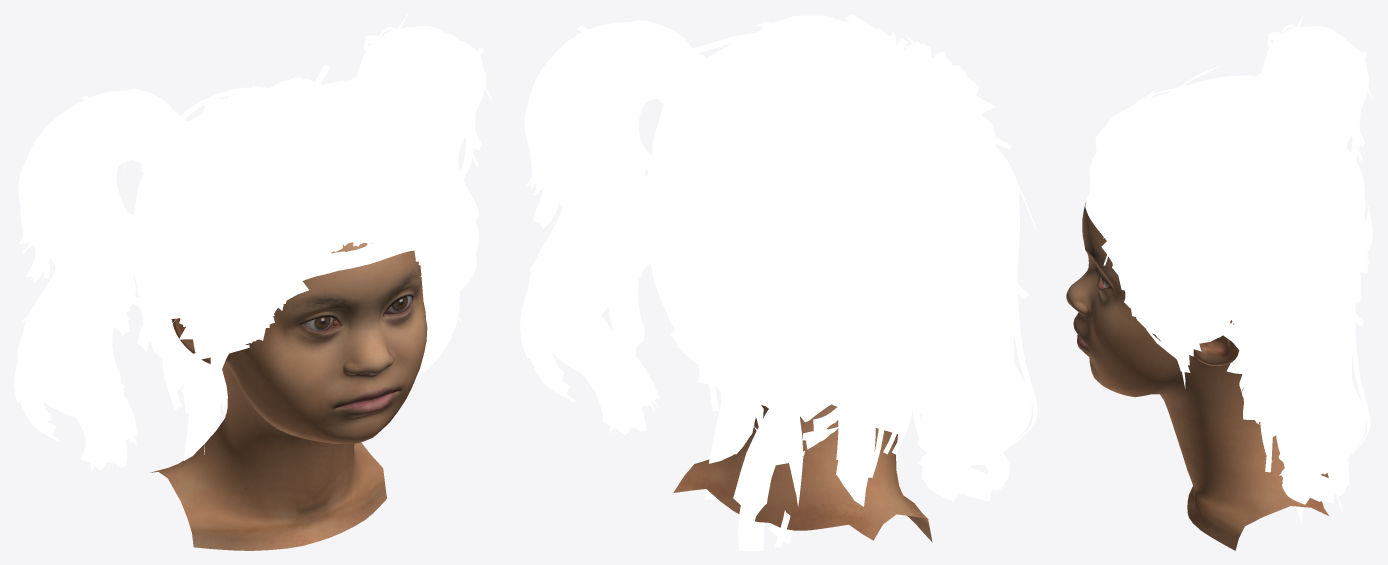
The model's file is kid1.glb.
3 renders of one model, left to right at view 1: azimuth 30°, elevation 25°; view 2: azimuth 150°, elevation 25°; view 3: azimuth 270°, elevation 25°, orthographic. The views are drawn at different scales.
Parts seen in each view (by area): view 1: Double_high.001, casey, Long_wavy_ponytail_R.001, Long_wavy_ponytail_L.001, Sphere.006; view 2: Double_high.001, Long_wavy_ponytail_R.001, Long_wavy_ponytail_L.001, casey; view 3: Double_high.001, Long_wavy_ponytail_L.001, casey, Long_wavy_ponytail_R.001.
Boxes of the visible parts, x1,y1,x2,y2 form: Double_high.001: (131, 65, 454, 460); casey: (150, 242, 427, 550); Long_wavy_ponytail_R.001: (14, 89, 189, 471); Long_wavy_ponytail_L.001: (352, 14, 491, 379); Sphere.006: (303, 296, 411, 331); Double_high.001: (642, 14, 995, 550); Long_wavy_ponytail_R.001: (871, 96, 1037, 501); Long_wavy_ponytail_L.001: (520, 20, 718, 435); casey: (673, 404, 932, 542); Double_high.001: (1085, 65, 1372, 522); Long_wavy_ponytail_L.001: (1243, 150, 1370, 504); casey: (1066, 202, 1328, 550); Long_wavy_ponytail_R.001: (1257, 14, 1373, 161).
Bounding box in the file's own units: 0.3795 × 0.3515 × 0.2318.
Materials: 6 (6 with a texture image).
